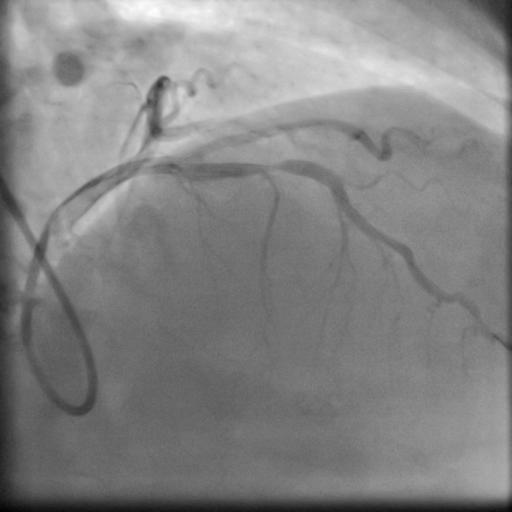Stenosis: (257, 154, 285, 179)
